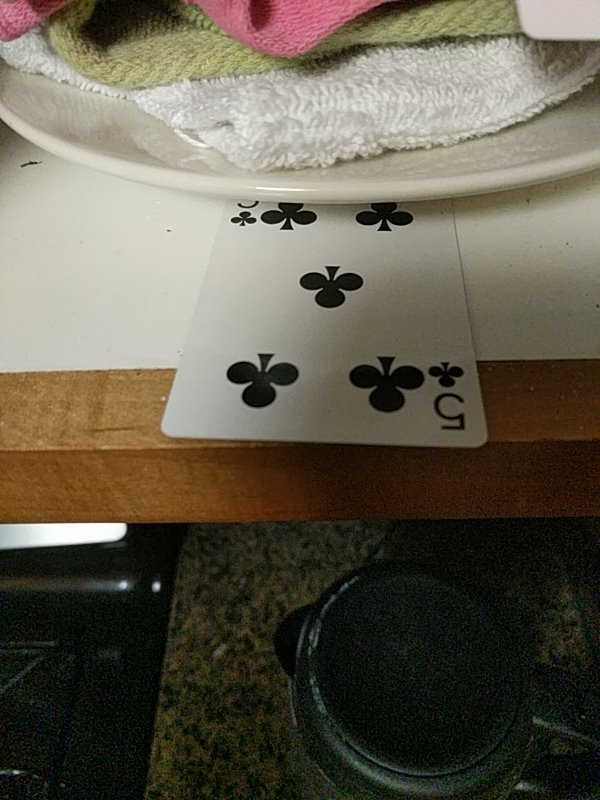Clubs: (166, 197, 488, 444)
